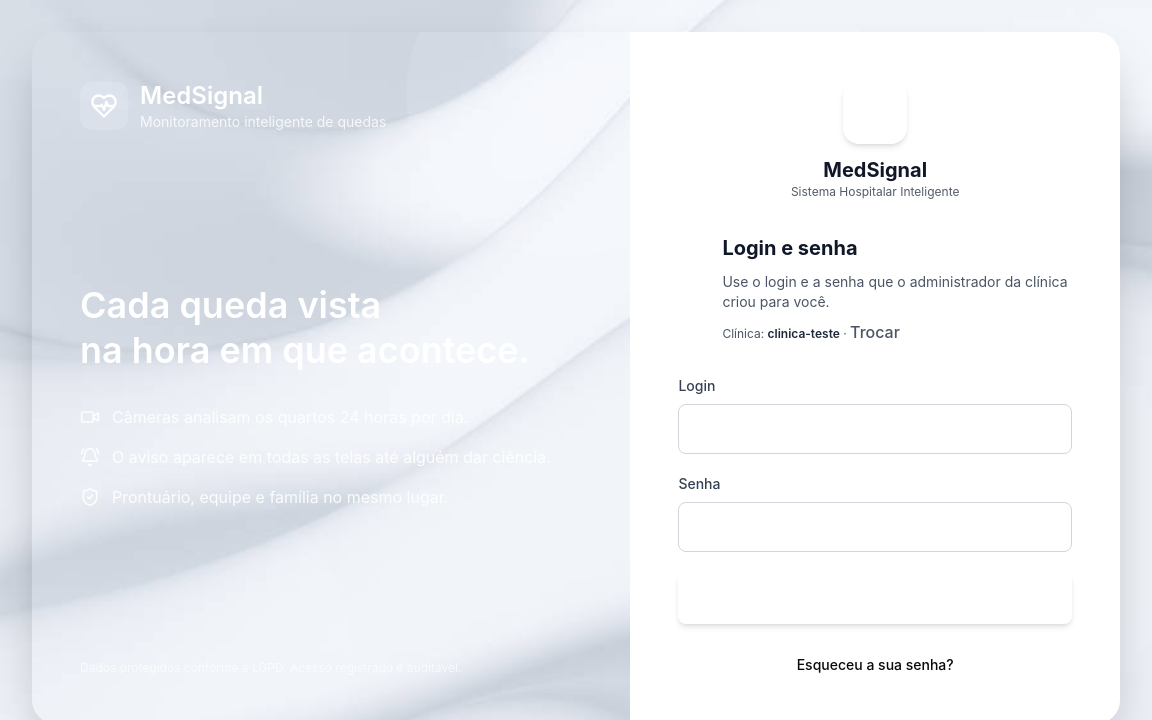
Test: Login: esqueci a senha › e-mail sem domínio completo: avisa e não envia
Click the button "Esqueceu a sua senha?" at (875, 665), box 797,655 -> 954,675
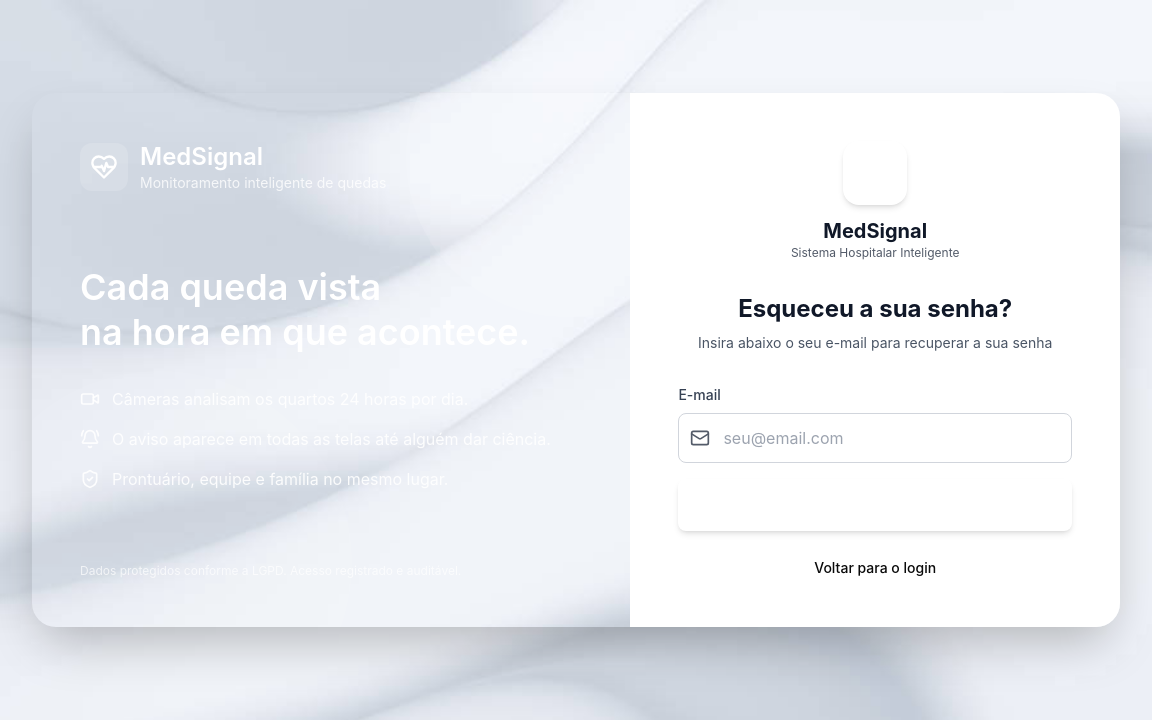
Type "ana@clinica" into the field labelled "E-mail" at (875, 438), box 678,413 -> 1072,463
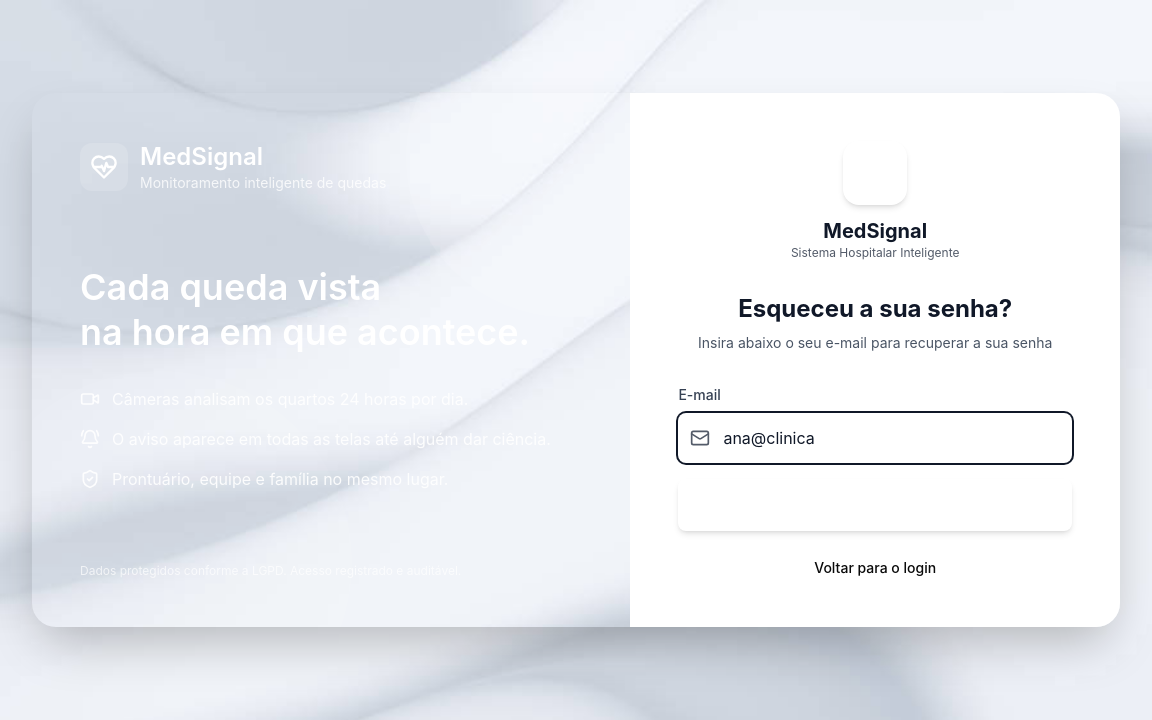
Click the button "Enviar" at (875, 505), box 678,479 -> 1072,531
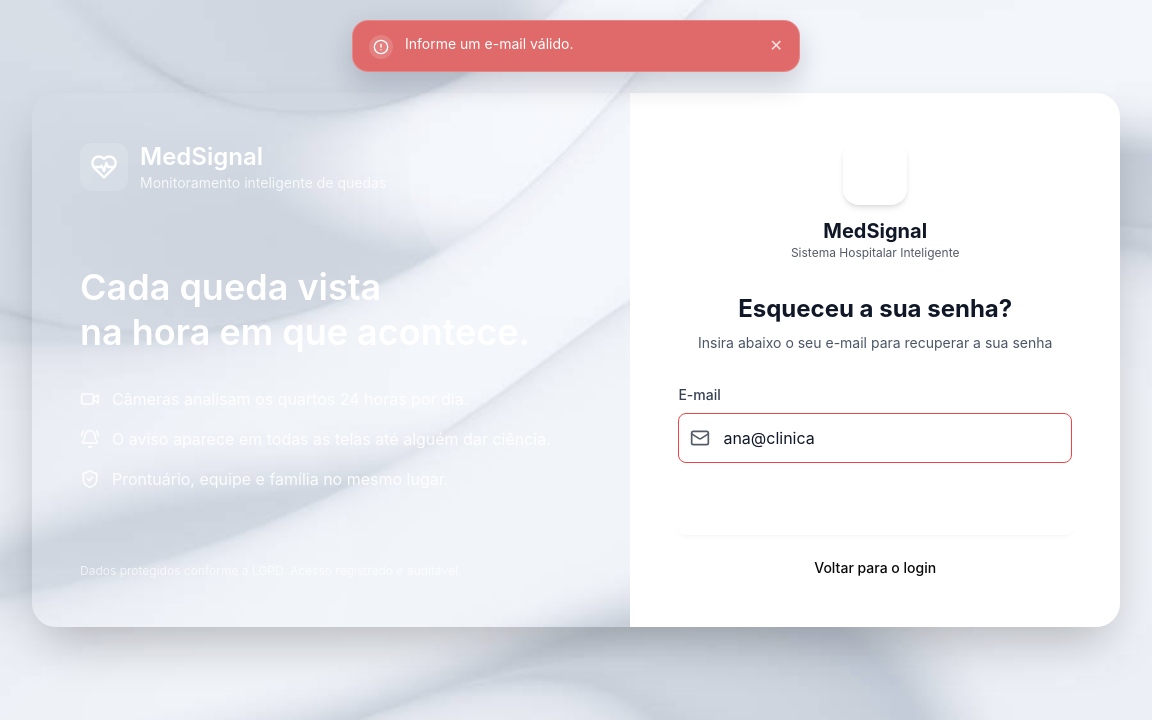
Expected: the text "Informe um e-mail válido." is shown, 405,35 -> 573,52
